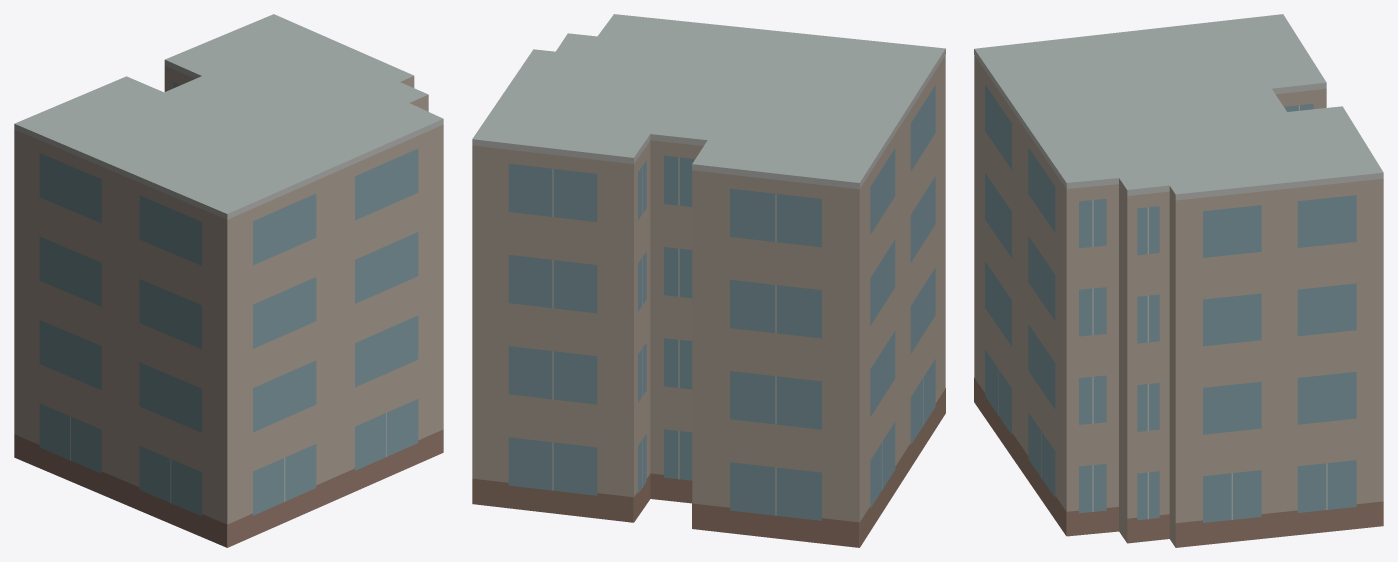
The model's file is survey-upis-32670292.glb.
The picture shows the model from 3 angles, left to right: view 1: azimuth 30°, elevation 25°; view 2: azimuth 150°, elevation 25°; view 3: azimuth 270°, elevation 25°; orthographic projection. The views are drawn at different scales.
Parts seen in each view (by area): view 1: survey-upis-32670292.tmp; view 2: survey-upis-32670292.tmp; view 3: survey-upis-32670292.tmp.
Part boxes in pixels (x1,y1,x2,y2): survey-upis-32670292.tmp: [14, 14, 443, 547]; survey-upis-32670292.tmp: [472, 14, 945, 547]; survey-upis-32670292.tmp: [974, 14, 1383, 547].
Size of the model in its own units: 15.67 by 14.3 by 15.03.
